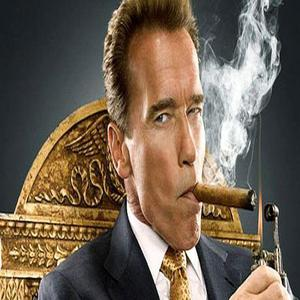cigarette: (200, 175, 265, 212)
smoke: (213, 70, 262, 110)
